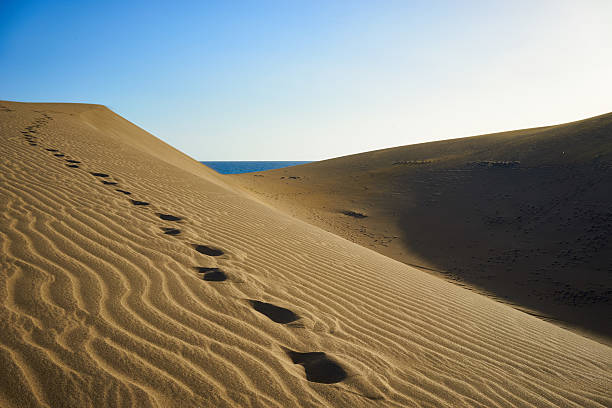human_footprint: (283, 347, 347, 383), (285, 349, 347, 383), (286, 349, 346, 383), (248, 300, 299, 323), (194, 267, 227, 281), (193, 244, 223, 256), (90, 172, 117, 184), (156, 213, 181, 220), (161, 227, 180, 234), (130, 199, 149, 205), (90, 172, 109, 177), (115, 189, 131, 194), (102, 180, 117, 184), (66, 159, 80, 163), (54, 153, 64, 157), (45, 148, 58, 151), (66, 164, 78, 167)
